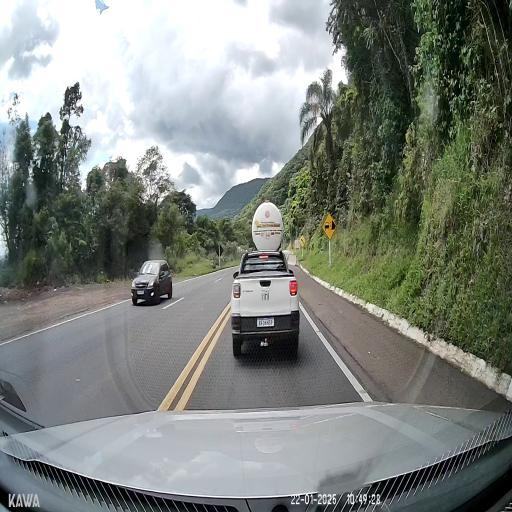A-27: (321, 213, 337, 240)
A-2a: (299, 235, 306, 247)
